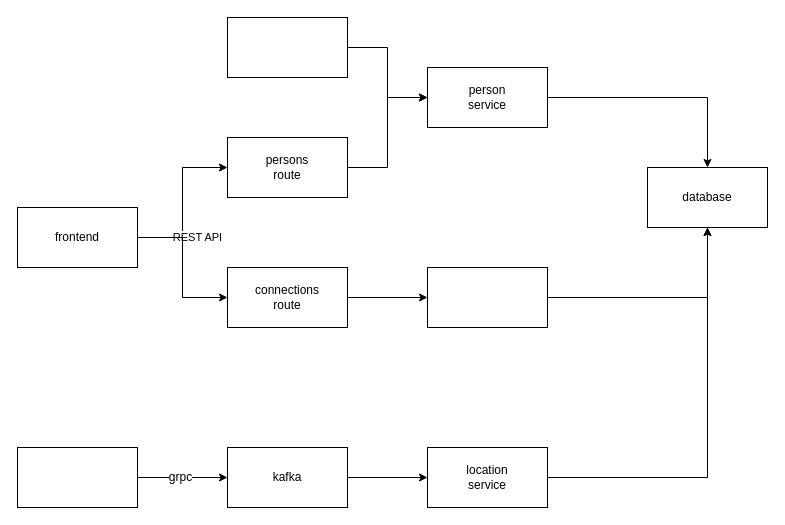
Image size: 785x525. Some labels were removed from this diagram. The centre of each missing label's shape, as x and y in pixels:
connection service: (x=487, y=297)
location grpc endpoint: (x=77, y=477)
person route: (x=287, y=47)
